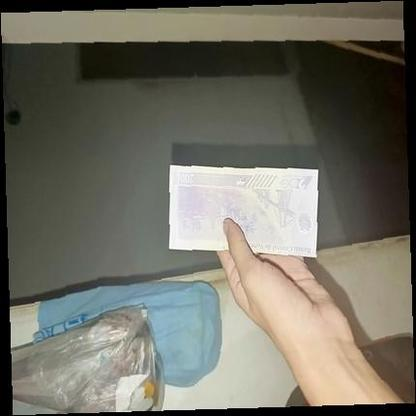two_hundred-back-vef: (168, 164, 320, 258)
